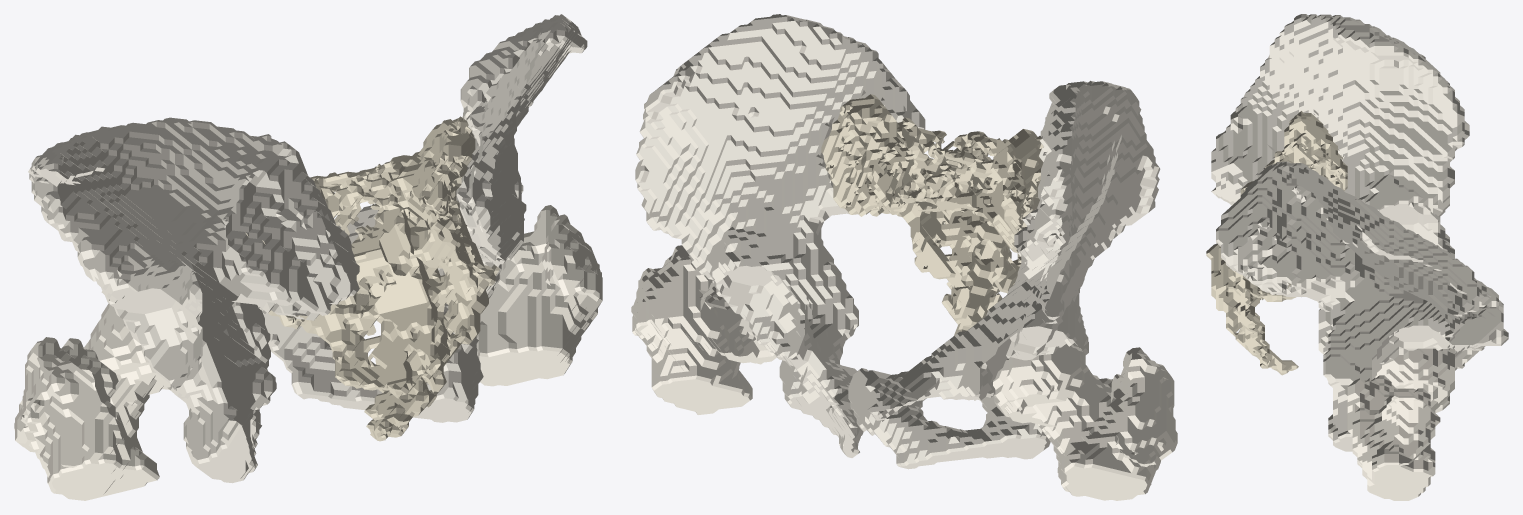
File: pelvis.glb
3 views of the same model, side by side, from view 1: azimuth 30°, elevation 25°; view 2: azimuth 150°, elevation 25°; view 3: azimuth 270°, elevation 25° (orthographic). The views are drawn at different scales.
Visible parts, largest first — view 1: hip_left, sacrum, hip_right, femur_left, femur_right; view 2: hip_right, hip_left, sacrum, femur_left, femur_right; view 3: hip_right, hip_left, femur_right, sacrum.
Part boxes in pixels (<box>): hip_left: <box>28,117,359,483</box>; sacrum: <box>245,116,499,441</box>; hip_right: <box>259,14,587,422</box>; femur_left: <box>14,303,172,500</box>; femur_right: <box>476,205,602,386</box>; hip_right: <box>635,14,925,457</box>; hip_left: <box>848,80,1160,469</box>; sacrum: <box>821,94,1061,335</box>; femur_left: <box>993,343,1177,500</box>; femur_right: <box>631,245,776,414</box>; hip_right: <box>1216,161,1508,451</box>; hip_left: <box>1211,14,1503,354</box>; femur_right: <box>1347,348,1454,500</box>; sacrum: <box>1206,111,1347,375</box>.
Size of the model in its own units: 327 by 210 by 186.
